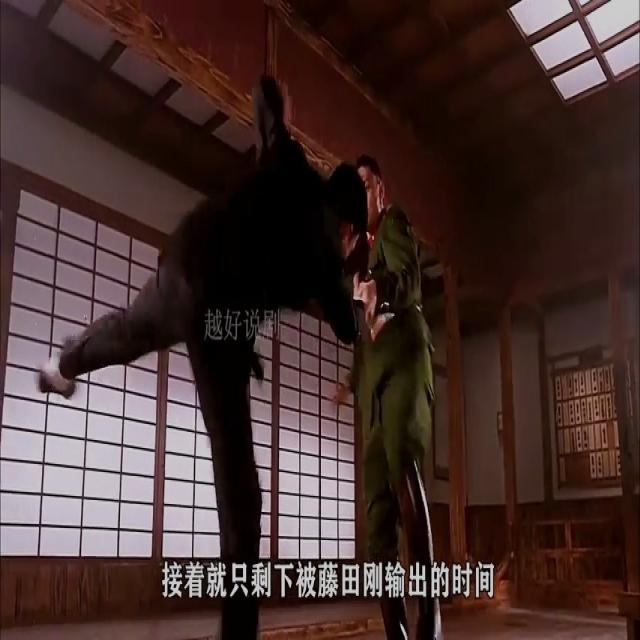fight: (34, 66, 452, 638)
